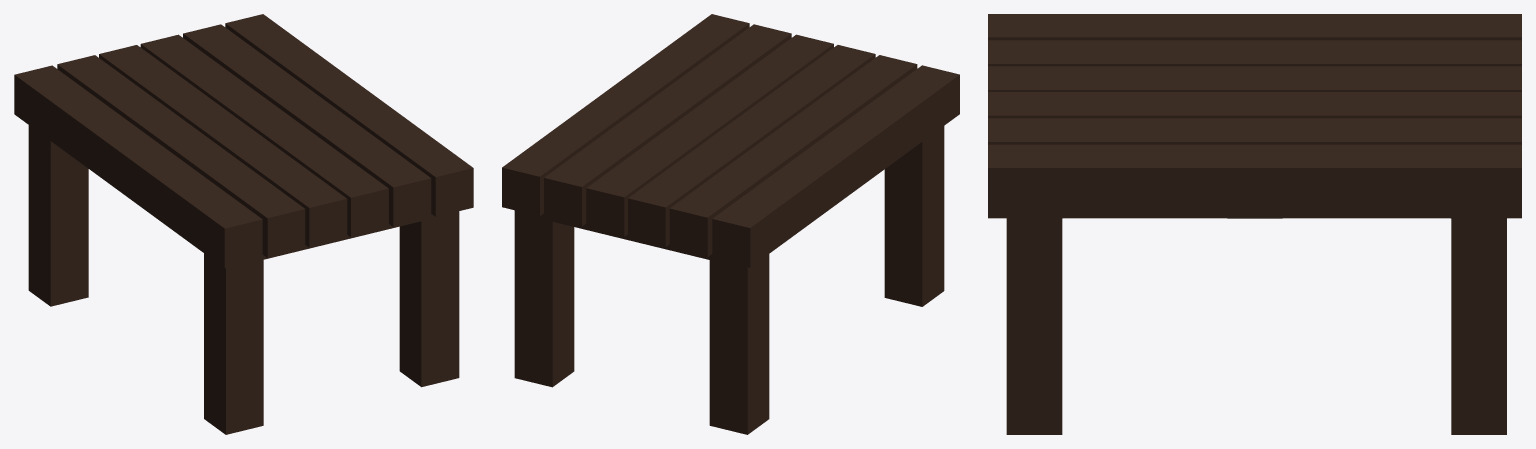
The model's file is envi_tableShort.fbx.
3 views of the same model, side by side, from view 1: azimuth 30°, elevation 25°; view 2: azimuth 150°, elevation 25°; view 3: azimuth 270°, elevation 25° (orthographic). The views are drawn at different scales.
Visible parts, largest first — view 1: pCube134; view 2: pCube134; view 3: pCube134.
Part boxes in pixels (left/top/right/bottom): pCube134: left=14, top=14, right=473, bottom=434; pCube134: left=502, top=14, right=959, bottom=434; pCube134: left=988, top=14, right=1521, bottom=434.
Size of the model in its own units: 2.36 by 1.93 by 3.45.
